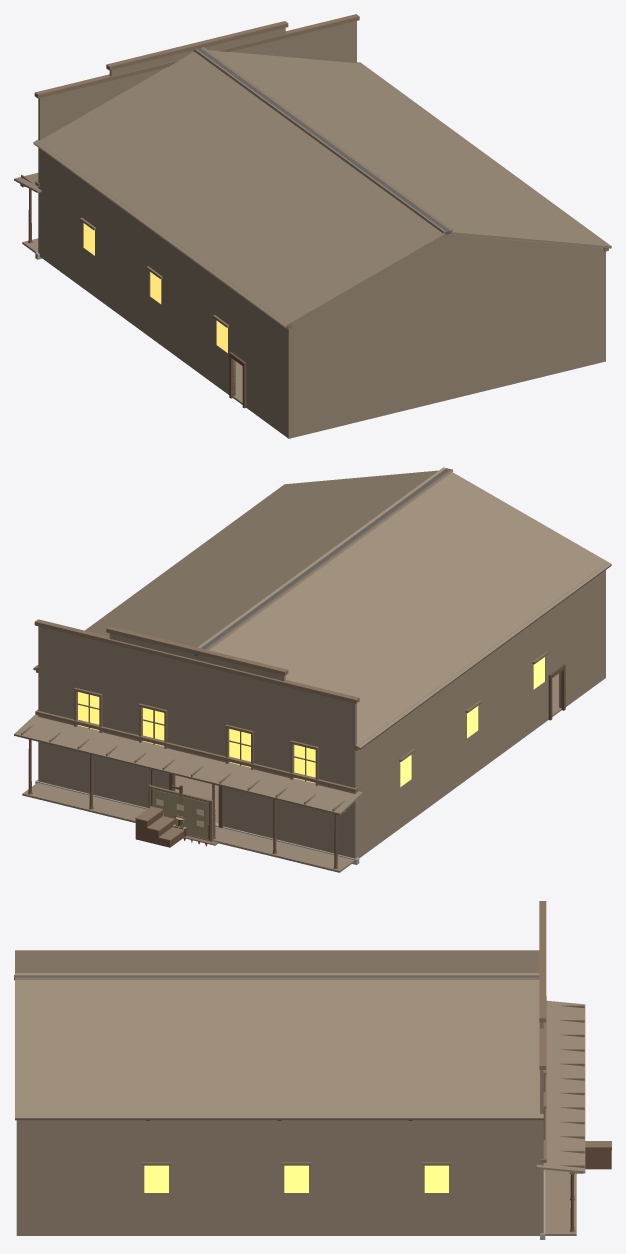
File: auction_house.glb
The picture shows the model from 3 angles, top to bottom: view 1: azimuth 30°, elevation 25°; view 2: azimuth 150°, elevation 25°; view 3: azimuth 270°, elevation 25°; orthographic projection. The views are drawn at different scales.
Visible parts, largest first — view 1: Auc_Building_geo; view 2: Auc_Building_geo, Auc_ClaimBoard_geo, Auc_Bleacher_geo; view 3: Auc_Building_geo, Auc_Bleacher_geo.
Boxes of the visible parts, x1,y1,x2,y2 form: Auc_Building_geo: (14,14,611,438); Auc_Building_geo: (14,467,611,872); Auc_ClaimBoard_geo: (148,784,213,841); Auc_Bleacher_geo: (135,806,184,847); Auc_Building_geo: (14,901,585,1239); Auc_Bleacher_geo: (585,1141,611,1169).
Bounding box in the file's own units: 22.71 × 11.9 × 34.16.
